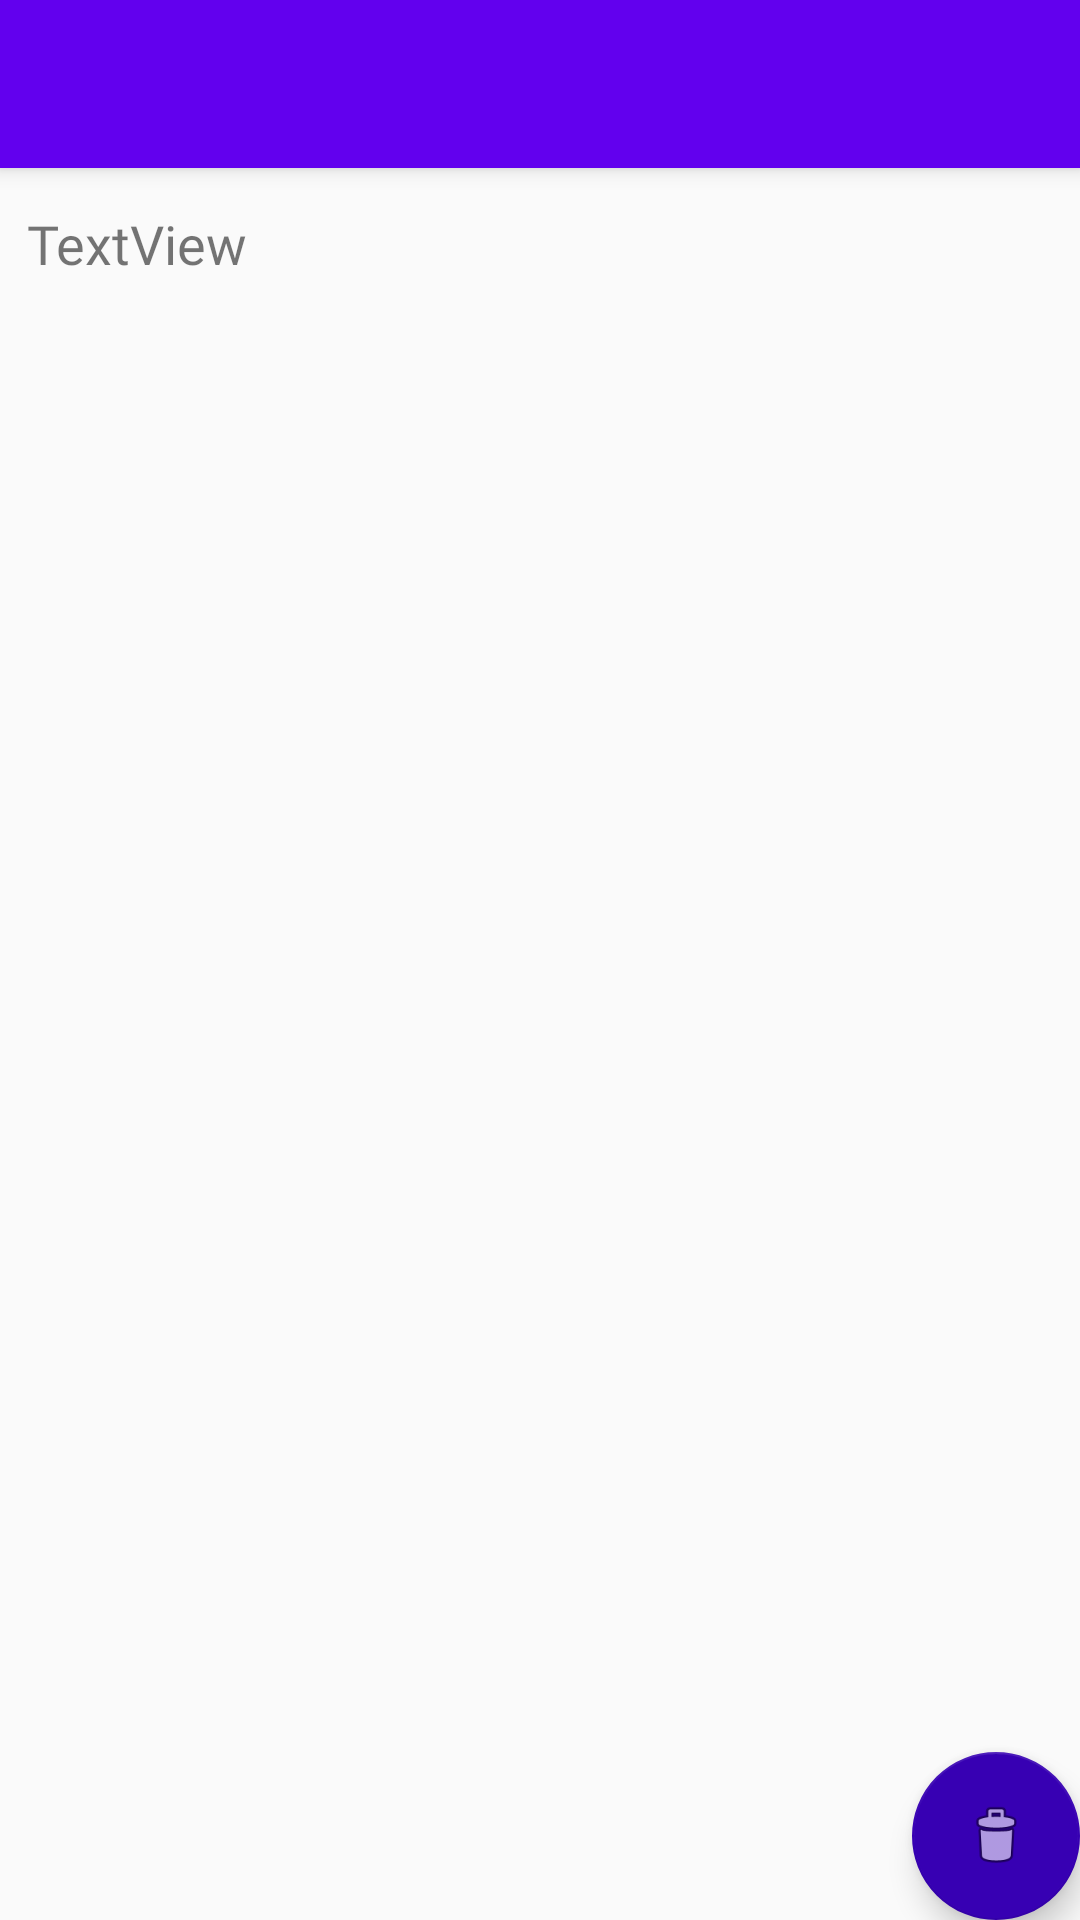

Where icons sit on this 1080x1920 app screen, as (x1, y1, x2, y2):
delete: (912, 1752, 1080, 1920)
